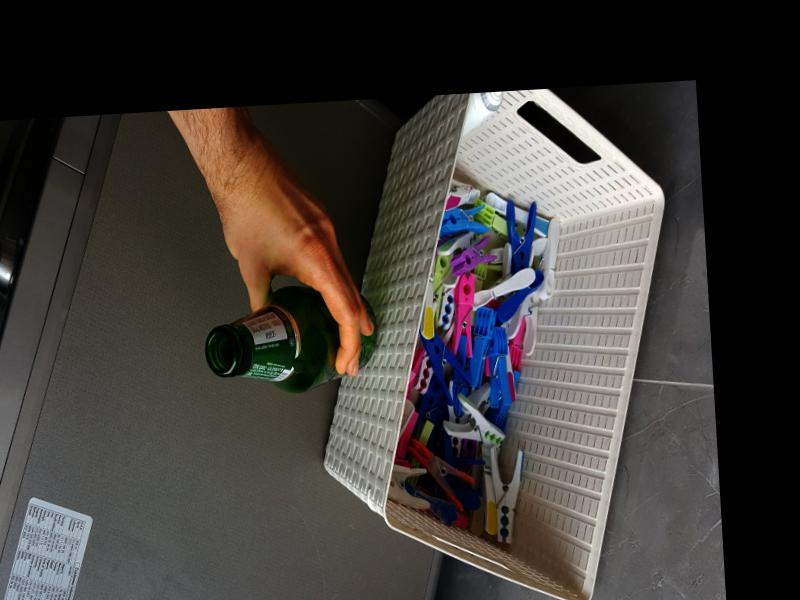Beer: (201, 282, 379, 397)
